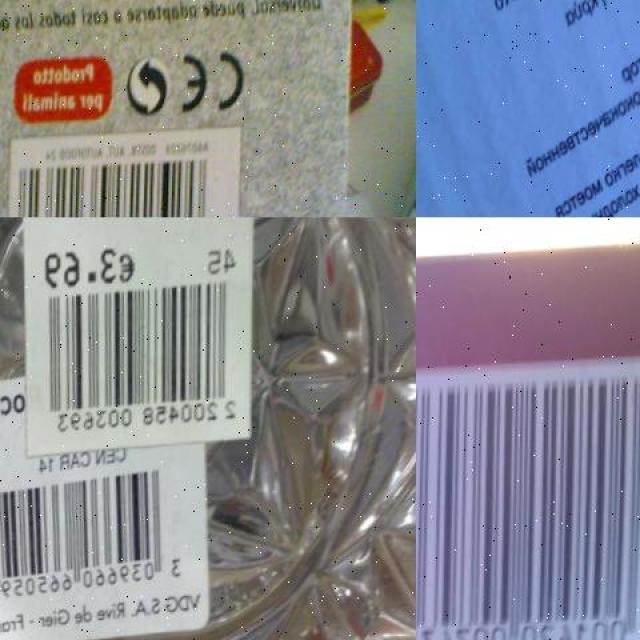Barcode: (416, 358, 640, 640), (17, 217, 260, 460), (0, 428, 212, 640), (8, 128, 243, 217)
